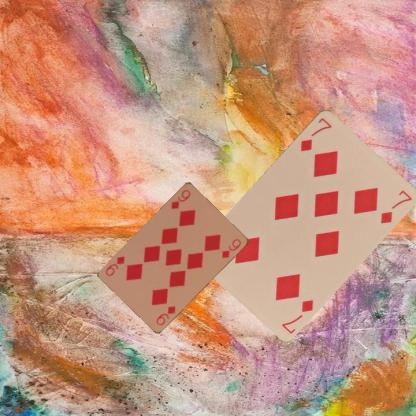7d: (278, 297, 315, 335), (298, 115, 334, 152)
9d: (168, 187, 192, 210), (154, 303, 176, 326)
